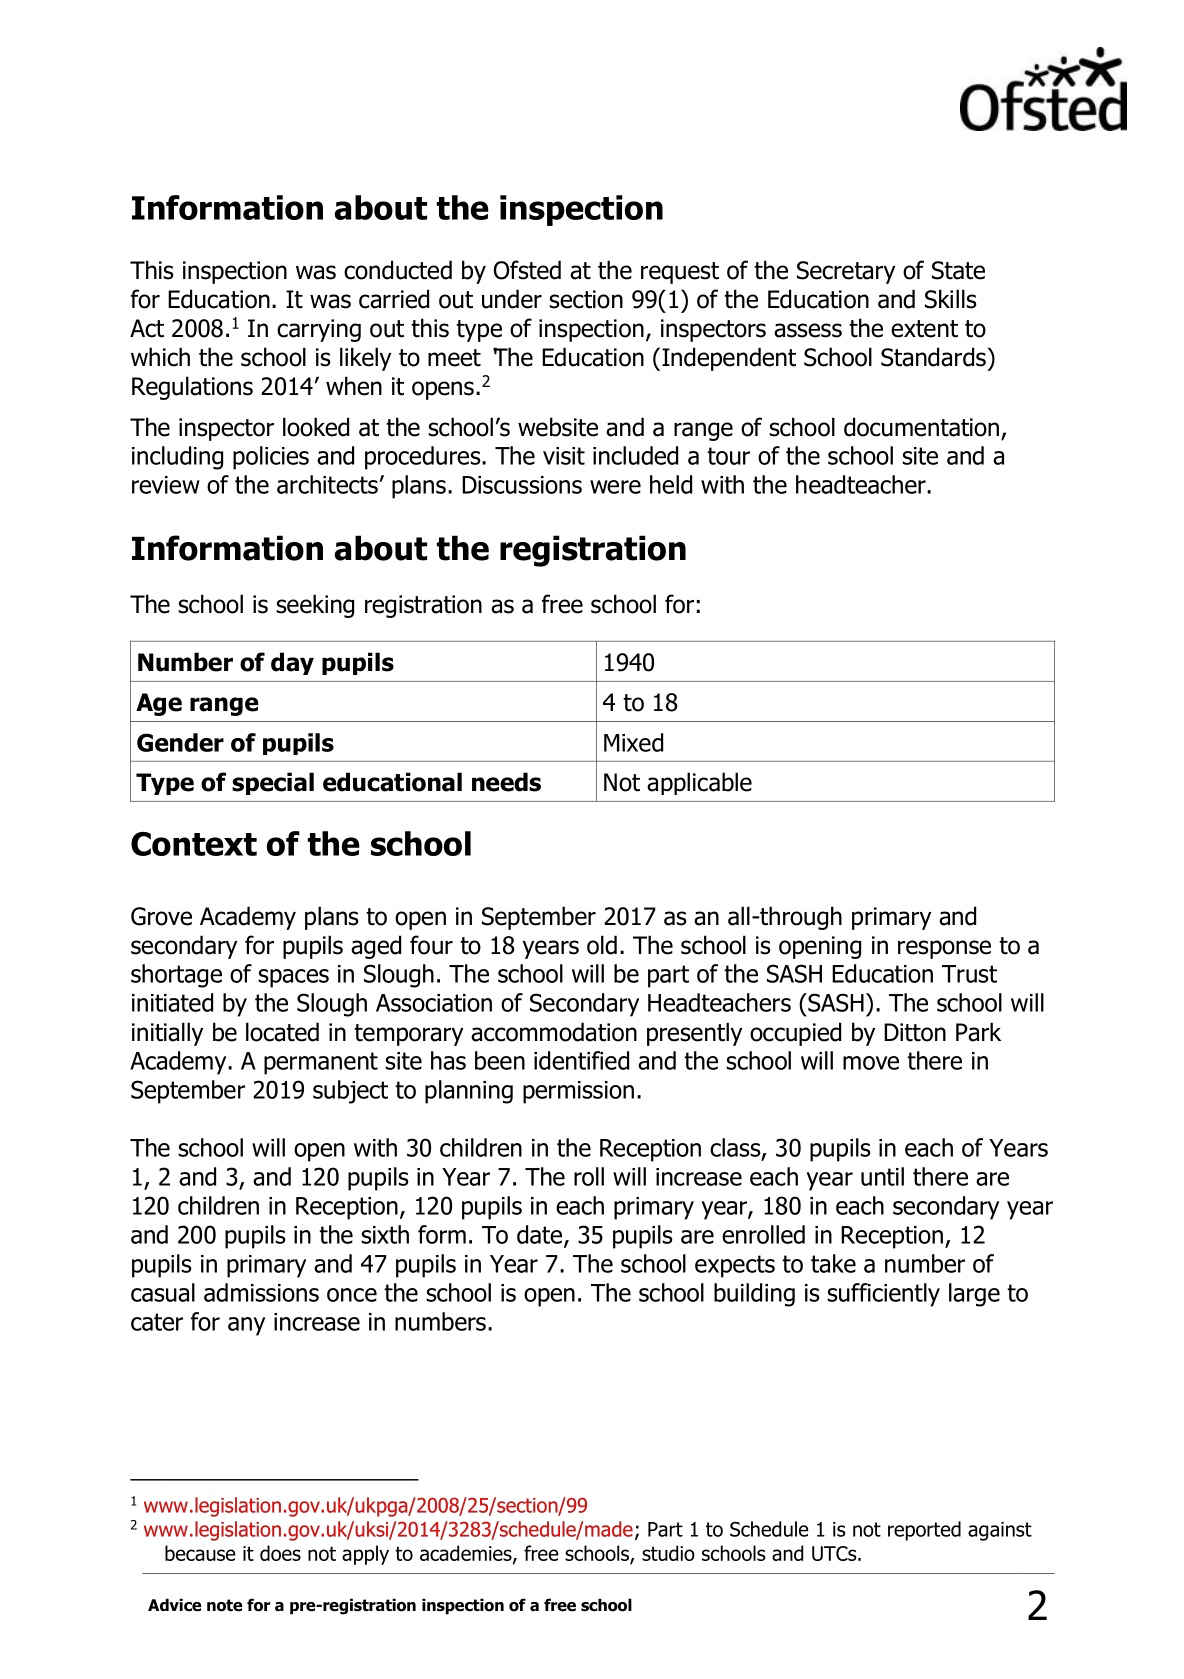full_lined: (128, 638, 1057, 804)
